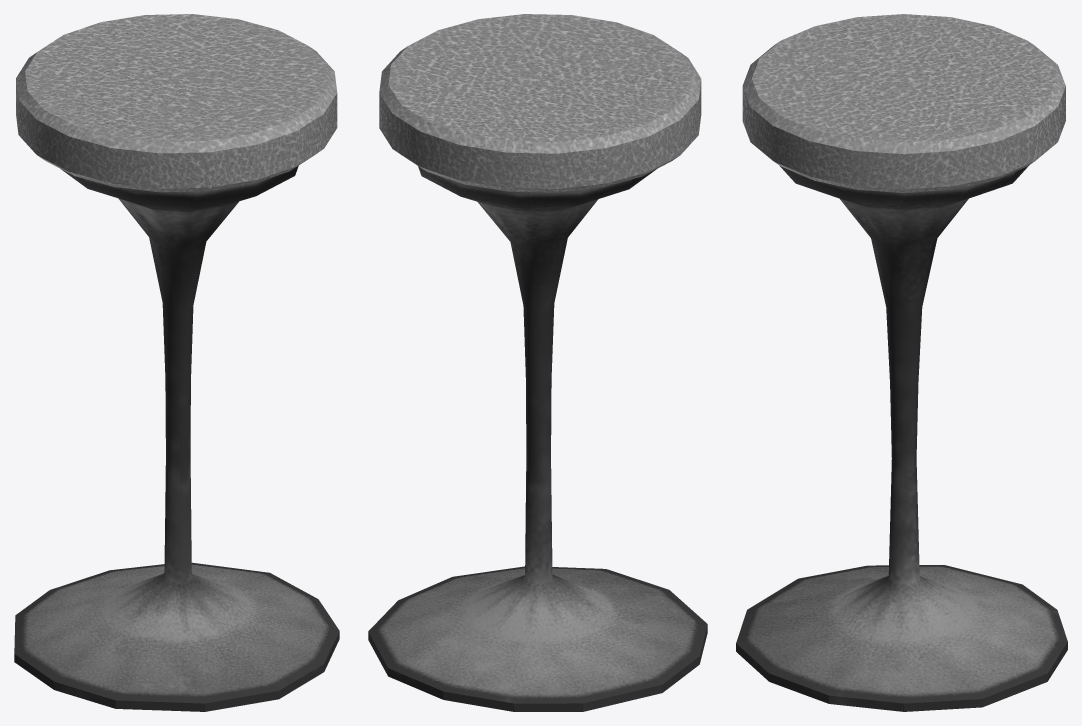
Rendered from LIH0210046.fbx.
The picture shows the model from 3 angles, left to right: view 1: azimuth 30°, elevation 25°; view 2: azimuth 150°, elevation 25°; view 3: azimuth 270°, elevation 25°; orthographic projection.
Parts seen in each view (by area): view 1: smLIH0210046; view 2: smLIH0210046; view 3: smLIH0210046.
Boxes of the visible parts, x1,y1,x2,y2 form: smLIH0210046: [14, 14, 339, 711]; smLIH0210046: [368, 14, 707, 711]; smLIH0210046: [736, 14, 1067, 711].
Bounding box in the file's own units: 47.79 × 90.73 × 48.36.
Materials: 1 (1 with a texture image).
